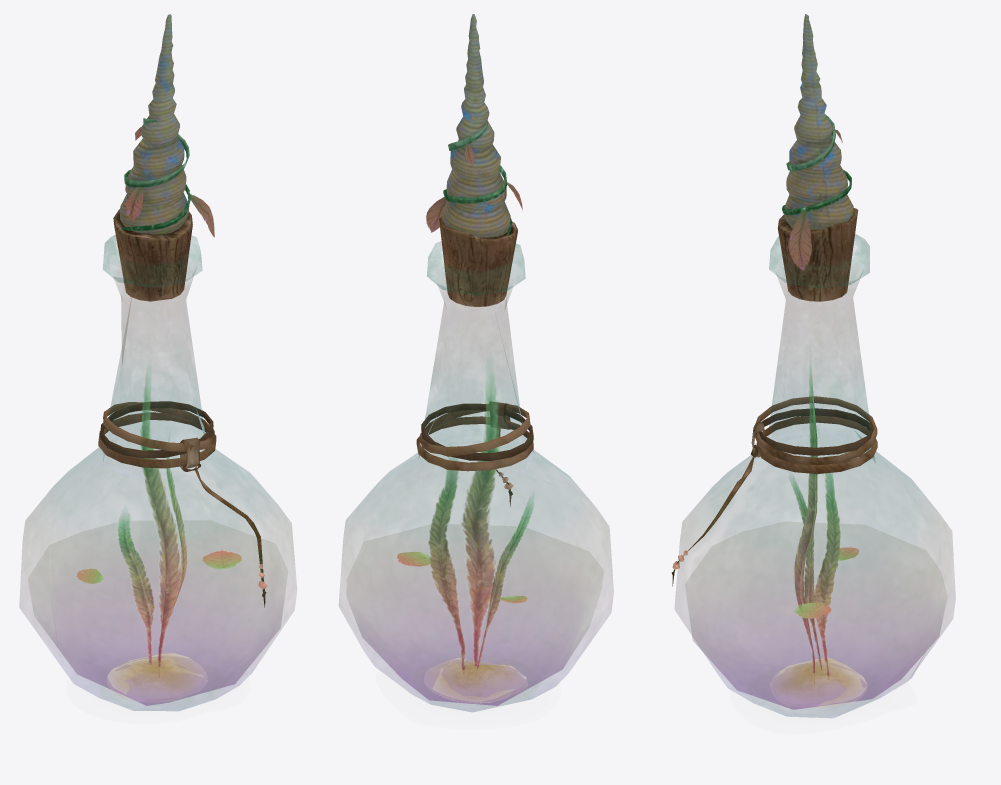
File: PRP_Flask_lod.glb
3 renders of one model, left to right at view 1: azimuth 30°, elevation 25°; view 2: azimuth 150°, elevation 25°; view 3: azimuth 270°, elevation 25°, orthographic. The views are drawn at different scales.
Parts seen in each view (by area): view 1: Potion2_Glass_0, Potion2_Liquid_0, Potion2_Objects_0, Potion2_Plants_0; view 2: Potion2_Glass_0, Potion2_Liquid_0, Potion2_Objects_0, Potion2_Plants_0; view 3: Potion2_Glass_0, Potion2_Liquid_0, Potion2_Objects_0, Potion2_Plants_0.
Boxes of the visible parts, x1,y1,x2,y2 form: Potion2_Glass_0: (19,235,296,710); Potion2_Liquid_0: (37,553,284,705); Potion2_Objects_0: (98,14,267,699); Potion2_Plants_0: (76,118,241,677); Potion2_Glass_0: (339,242,613,711); Potion2_Liquid_0: (350,564,585,705); Potion2_Objects_0: (416,14,533,702); Potion2_Plants_0: (397,121,533,669); Potion2_Glass_0: (674,234,955,717); Potion2_Liquid_0: (689,573,944,709); Potion2_Objects_0: (671,14,877,706); Potion2_Plants_0: (782,114,859,683).
Bounding box in the file's own units: 541 × 1408 × 595.
5 materials, 5 textured.
